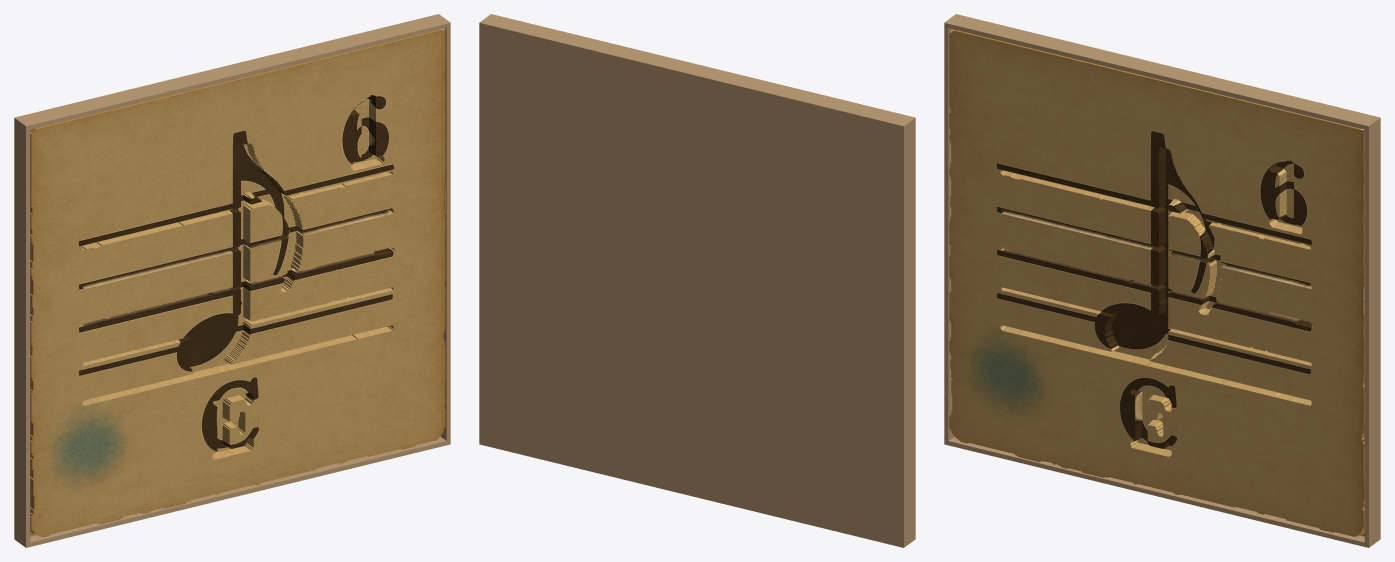
The model's file is note1e.fbx.
3 views of the same model, side by side, from view 1: azimuth 30°, elevation 25°; view 2: azimuth 150°, elevation 25°; view 3: azimuth 330°, elevation 25° (orthographic).
Visible parts, largest first — view 1: meshes[0]; view 2: meshes[0]; view 3: meshes[0].
Part boxes in pixels (x1=…): meshes[0]: x1=14, y1=14, x2=450, y2=547; meshes[0]: x1=479, y1=14, x2=915, y2=547; meshes[0]: x1=944, y1=14, x2=1380, y2=547.
Size of the model in its own units: 410 by 389 by 20.
